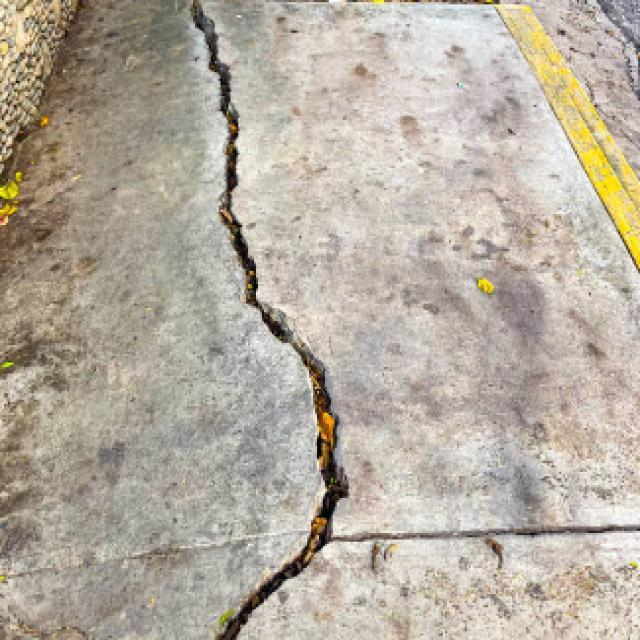curved crack: (192, 0, 348, 639)
